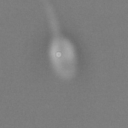normal: (41, 1, 68, 36)
